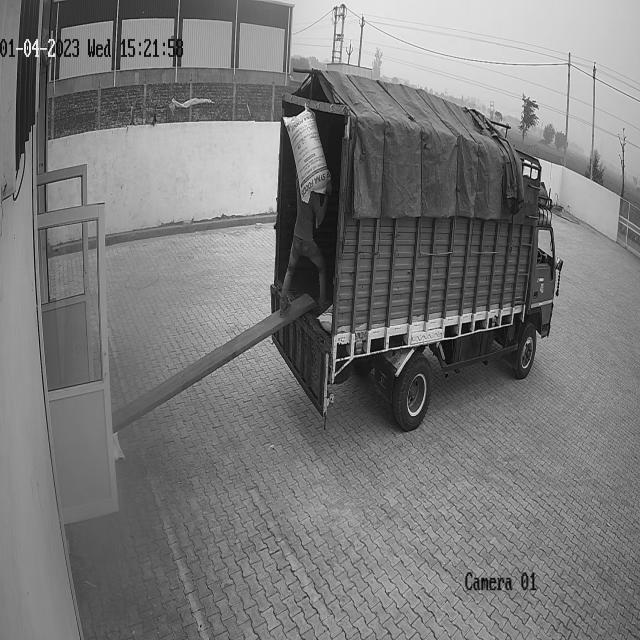sack: (284, 109, 329, 202)
